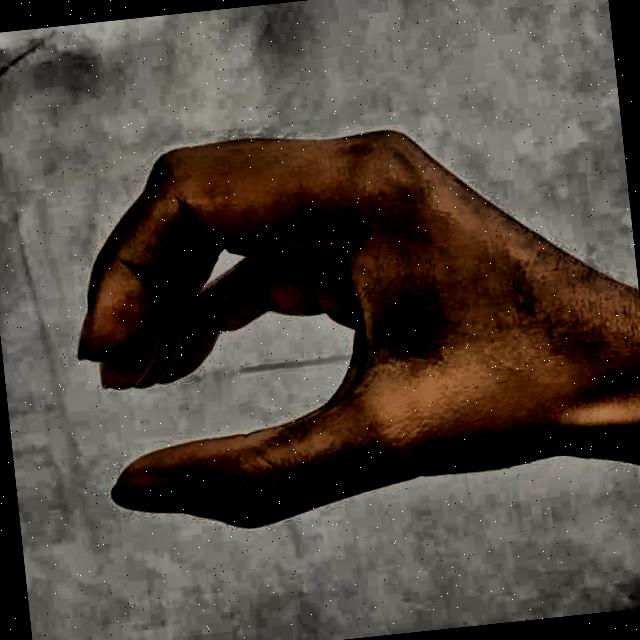Ka: (36, 53, 594, 597)
